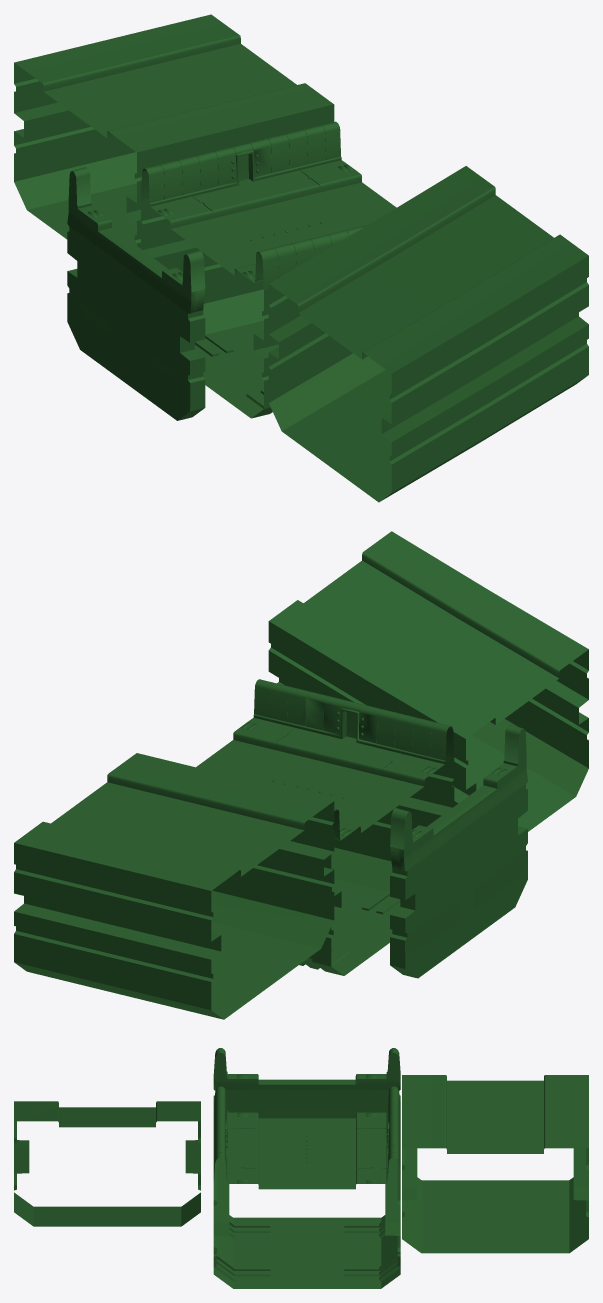
The model's file is floorFINAL.fbx.
The picture shows the model from 3 angles, top to bottom: view 1: azimuth 30°, elevation 25°; view 2: azimuth 150°, elevation 25°; view 3: azimuth 270°, elevation 25°; orthographic projection. The views are drawn at different scales.
Visible parts, largest first — view 1: Cube.003, Cube.006, Cube.004, side; view 2: Cube.006, Cube.003, Cube.004, side; view 3: Cube.004, Cube.006, Cube.003, side.
Boxes of the visible parts, left/top/right/bottom form: Cube.003: left=268, top=166, right=588, bottom=502; Cube.006: left=14, top=14, right=334, bottom=248; Cube.004: left=141, top=121, right=396, bottom=418; side: left=67, top=167, right=205, bottom=420; Cube.006: left=14, top=753, right=334, bottom=1019; Cube.003: left=268, top=531, right=588, bottom=831; Cube.004: left=196, top=679, right=454, bottom=975; side: left=390, top=724, right=527, bottom=978; Cube.004: left=213, top=1086, right=400, bottom=1288; Cube.006: left=402, top=1075, right=588, bottom=1253; Cube.003: left=14, top=1101, right=200, bottom=1226; side: left=213, top=1048, right=400, bottom=1118.
Bounding box in the file's own units: 2807 × 2217 × 6860.
